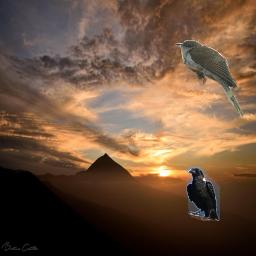Crow: (186, 167, 220, 221)
Cuckoo: (175, 40, 244, 118)
